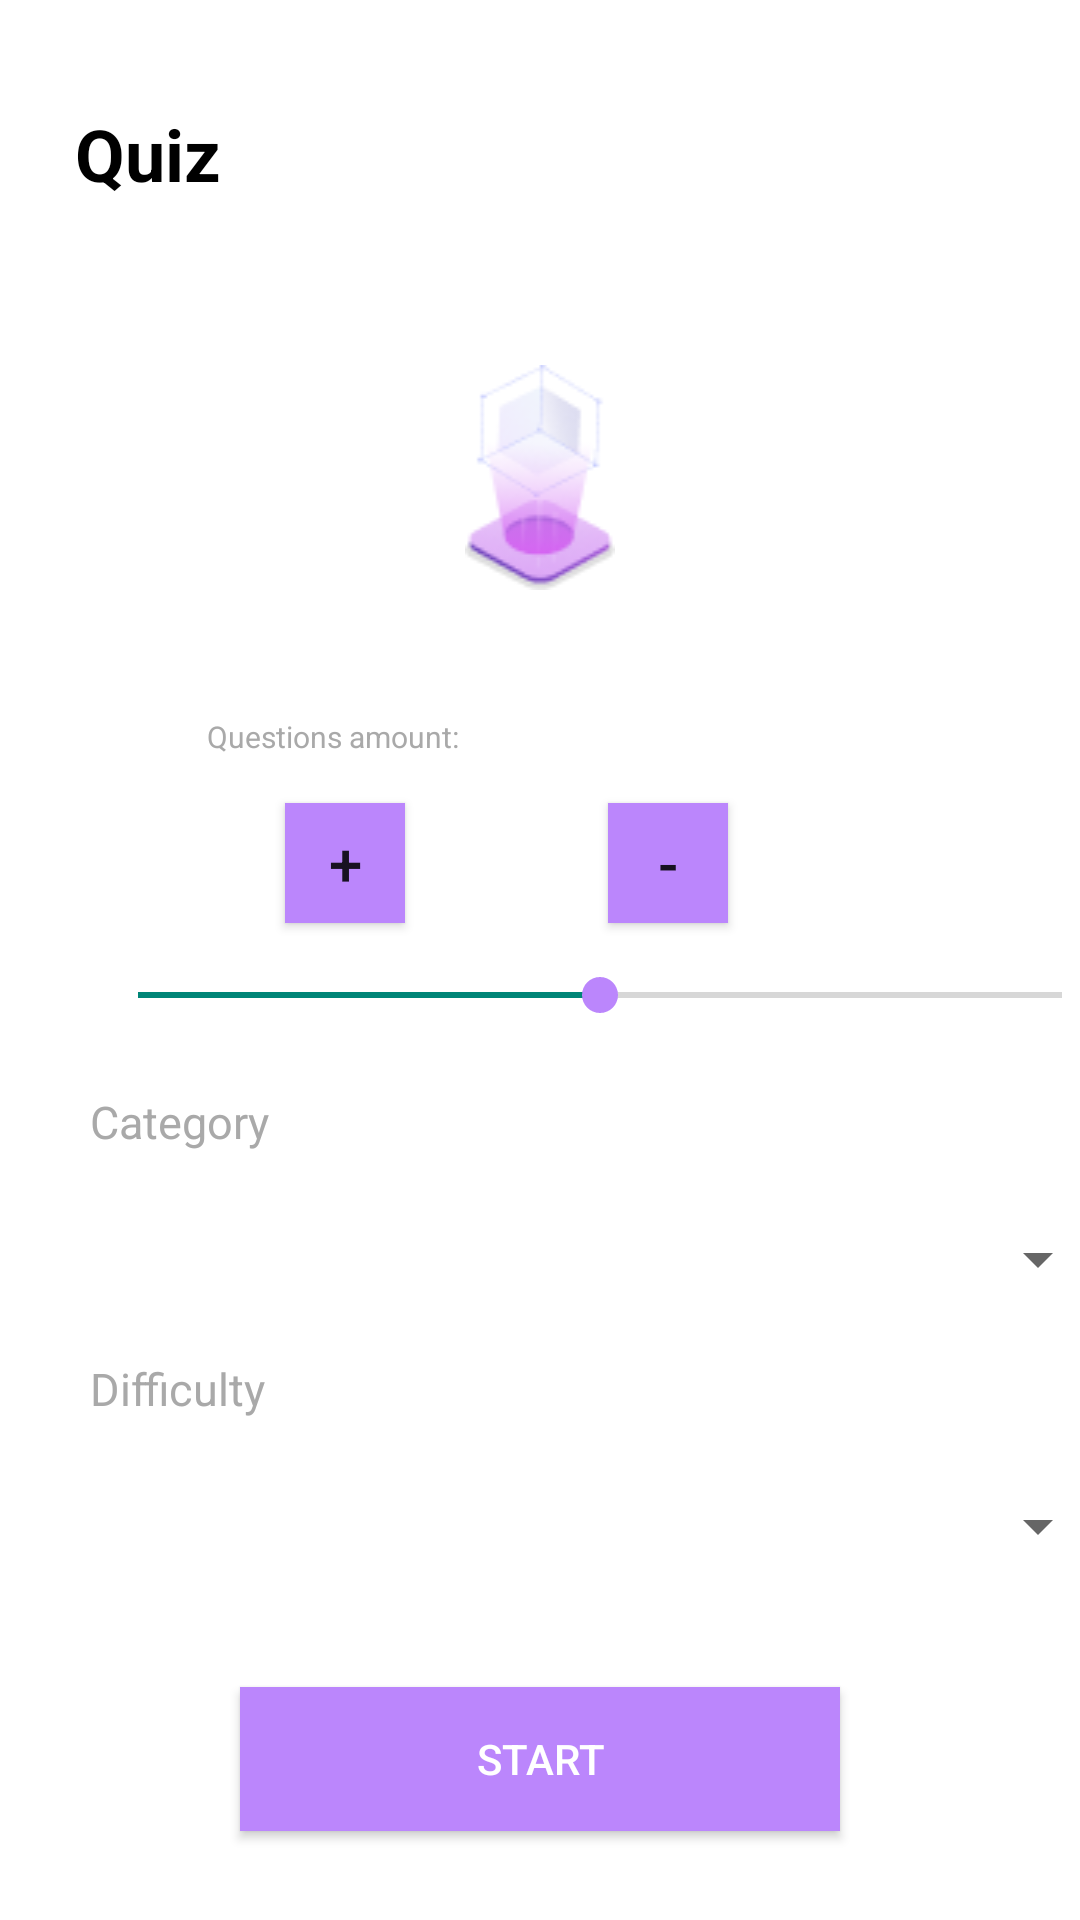

Named icons in this screenshot (1080×1920) and their centers, point (x, y):
ar tut: point (539, 476)
